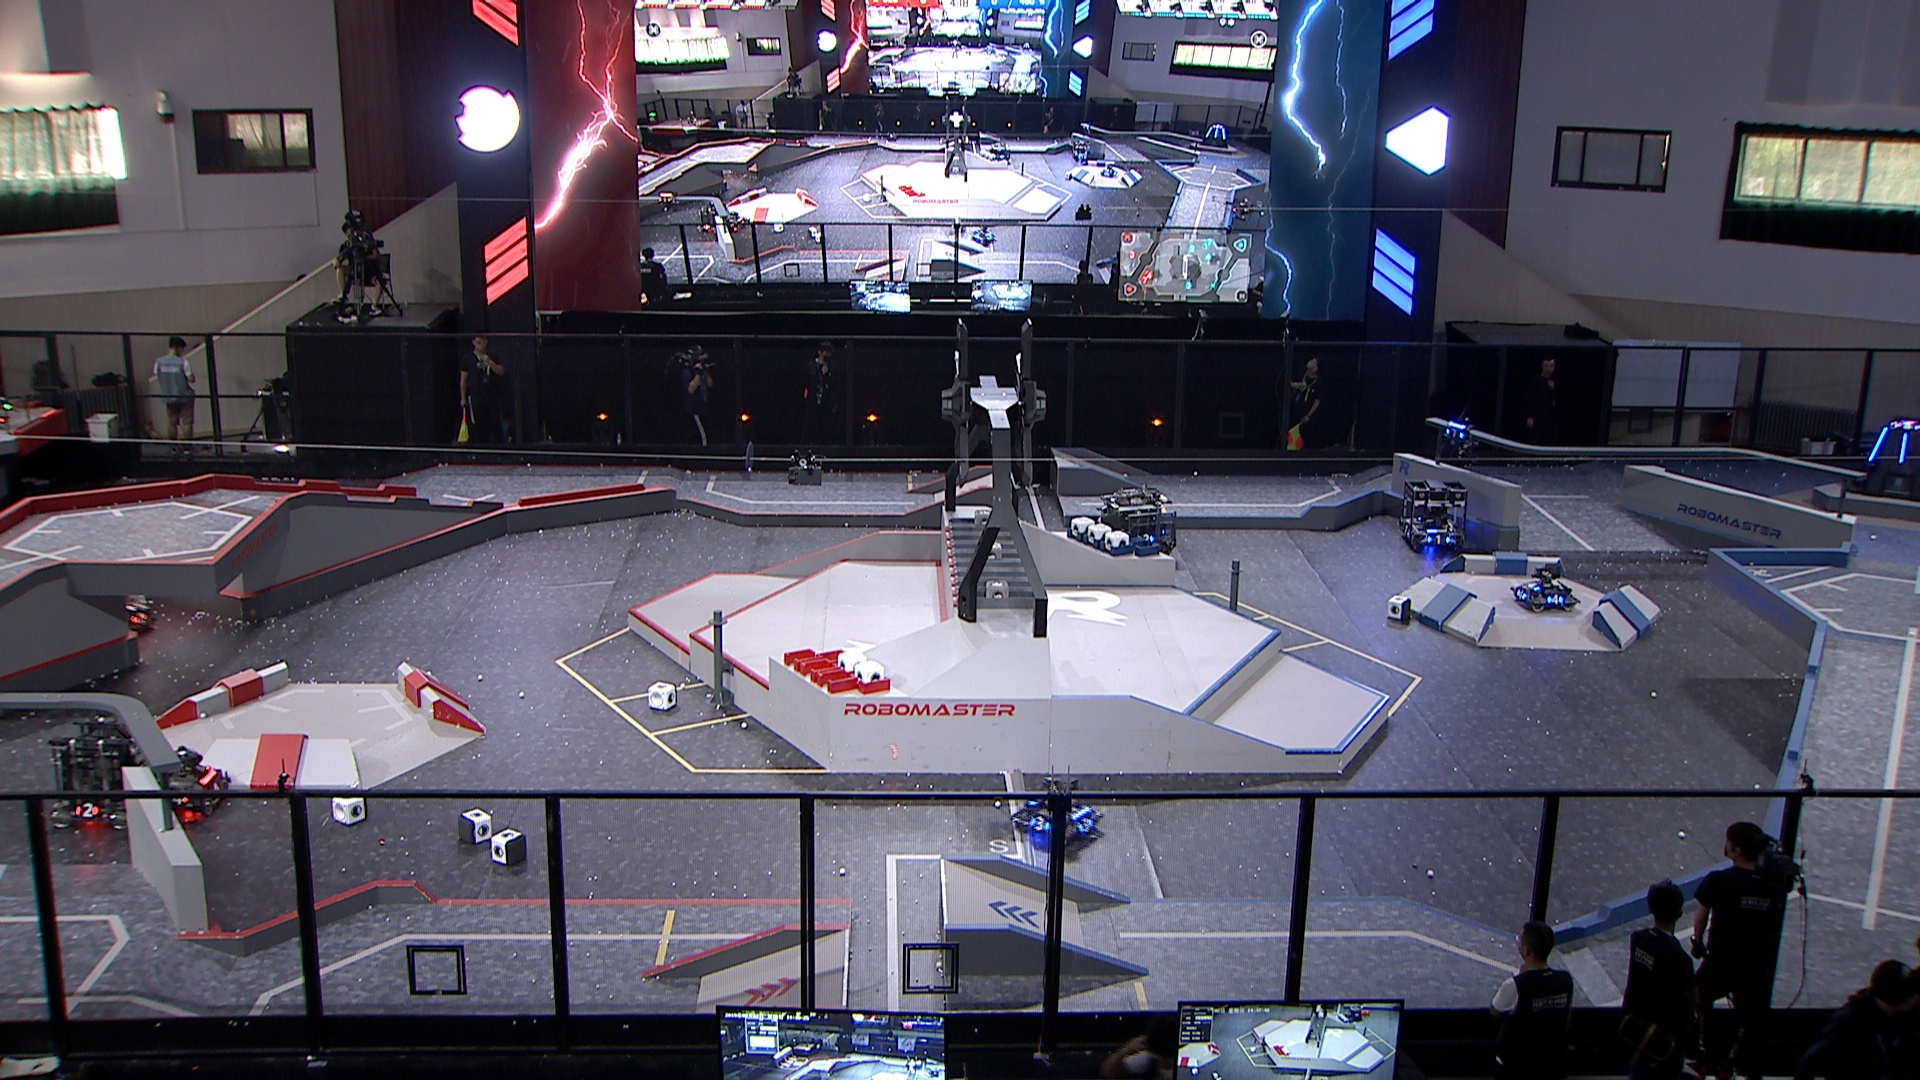armor: (1869, 427, 1890, 462), (73, 803, 102, 818), (1029, 815, 1050, 835), (1898, 433, 1909, 465), (1428, 533, 1452, 549), (1076, 816, 1095, 833), (131, 611, 150, 626), (1545, 593, 1567, 608), (1400, 522, 1415, 542), (1138, 533, 1158, 546), (169, 796, 189, 808), (1447, 429, 1466, 440), (1524, 582, 1543, 593), (1514, 588, 1528, 603)
base: (1847, 419, 1920, 504)
car: (47, 713, 146, 835), (1010, 775, 1102, 851), (138, 746, 231, 818), (1096, 491, 1179, 560), (1396, 480, 1472, 556), (76, 574, 156, 638), (1513, 564, 1581, 613)
ignore: (1200, 121, 1230, 148), (723, 211, 749, 233), (700, 202, 719, 233), (973, 225, 997, 248), (1072, 140, 1091, 164), (992, 142, 1011, 164), (659, 191, 679, 211), (1894, 419, 1920, 433), (1100, 164, 1117, 178), (1083, 124, 1092, 136)
watcher: (1447, 419, 1480, 458)
